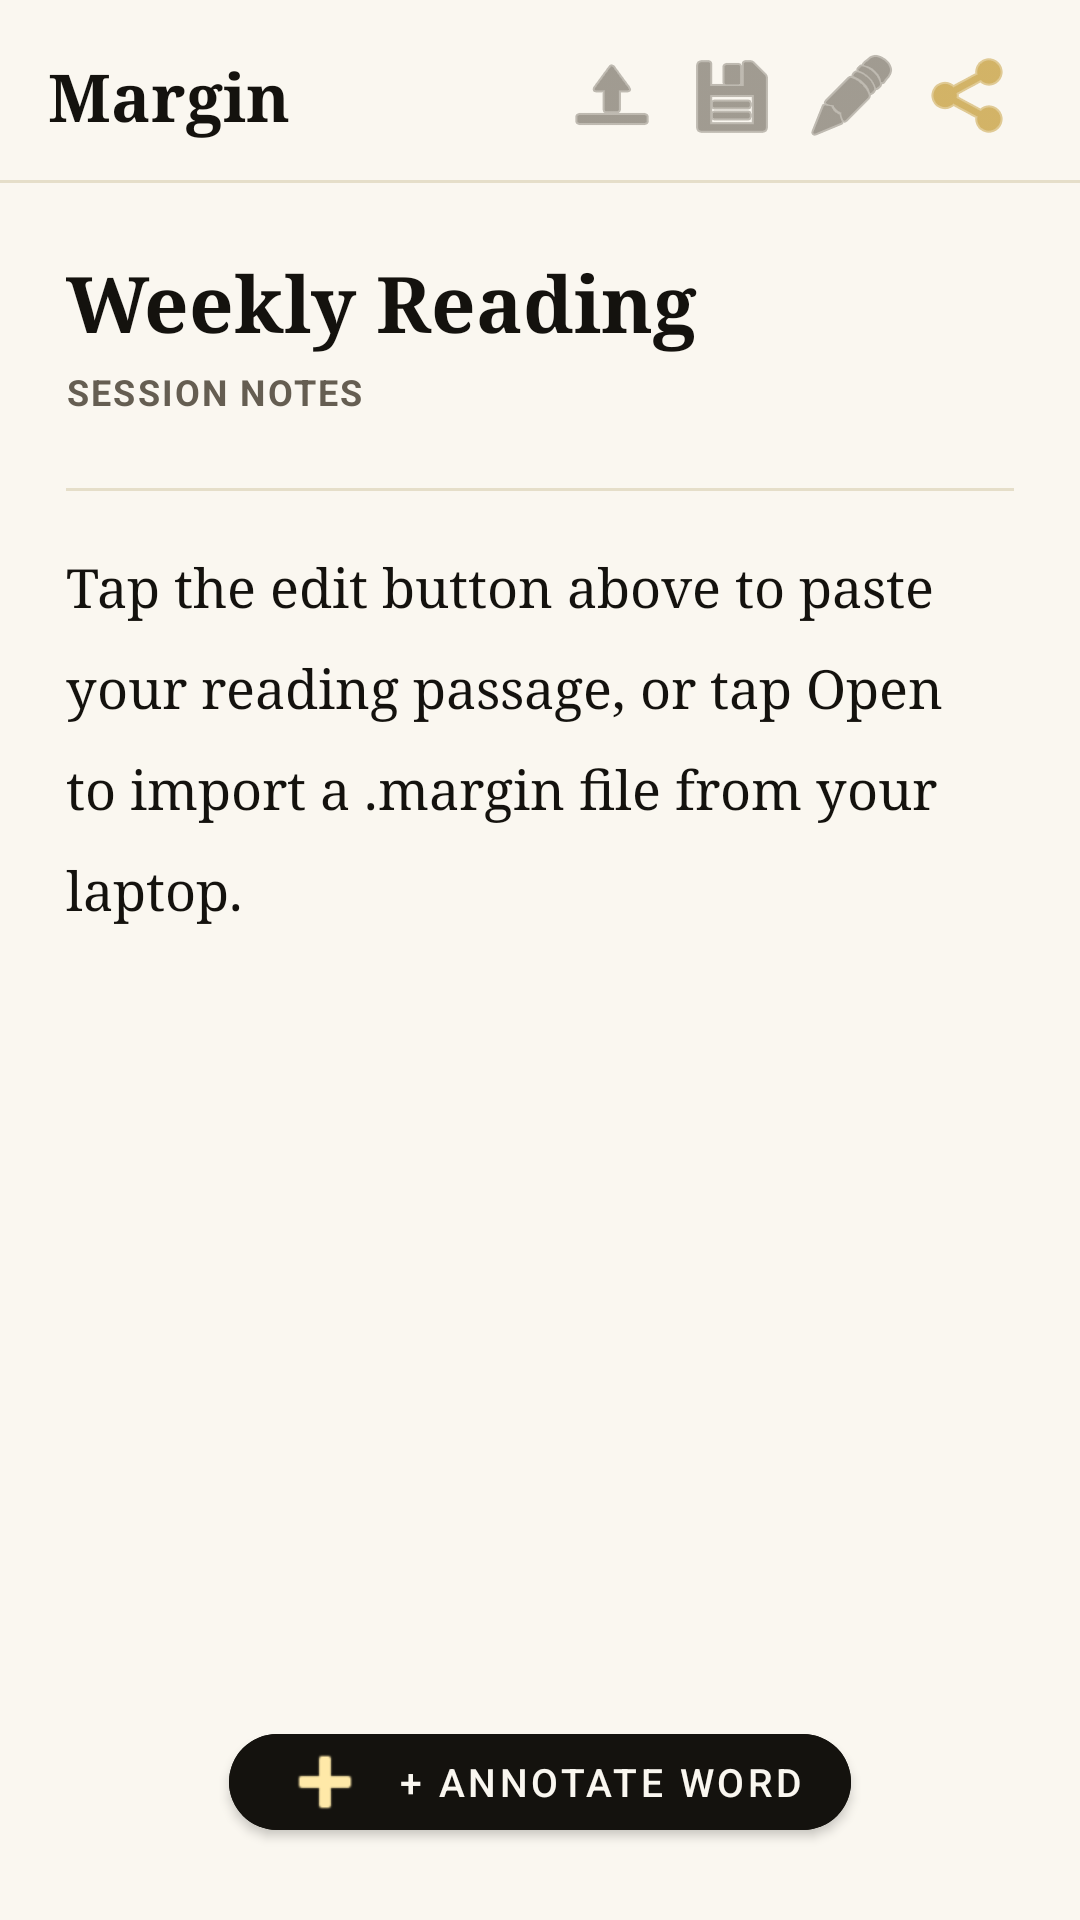

Named icons in this screenshot (1080 x 1920) and their bounding boxes, (x1=x1, y1=y1, x2=x2, y2=y2):
Edit Passage: (x1=811, y1=55, x2=892, y2=136)
Export HTML: (x1=931, y1=58, x2=1003, y2=133)
